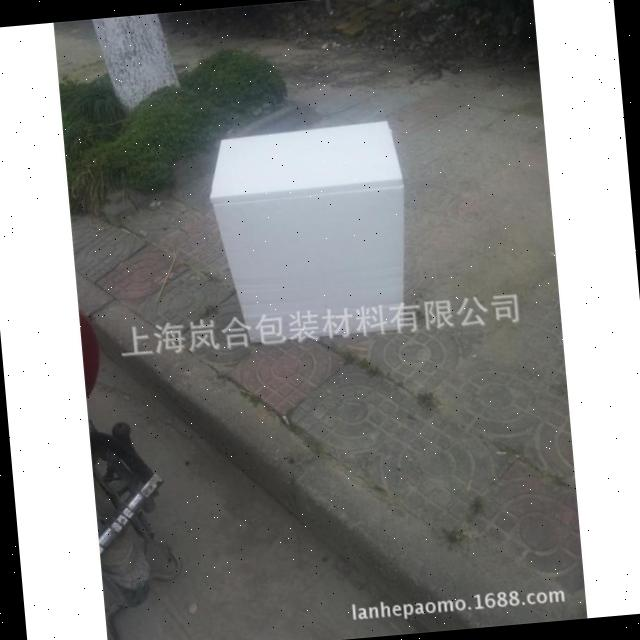styrofoam: (202, 116, 418, 348)
